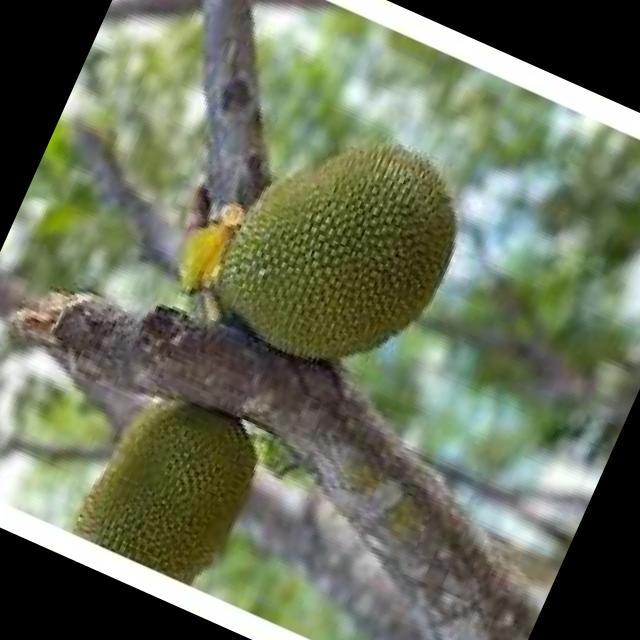Fruit: (148, 70, 508, 427), (58, 363, 290, 598)
